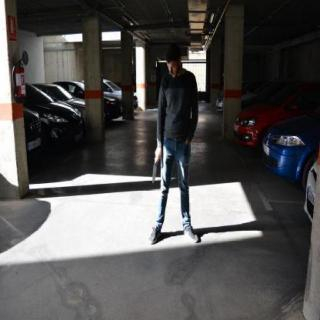knife: (150, 158, 158, 186)
